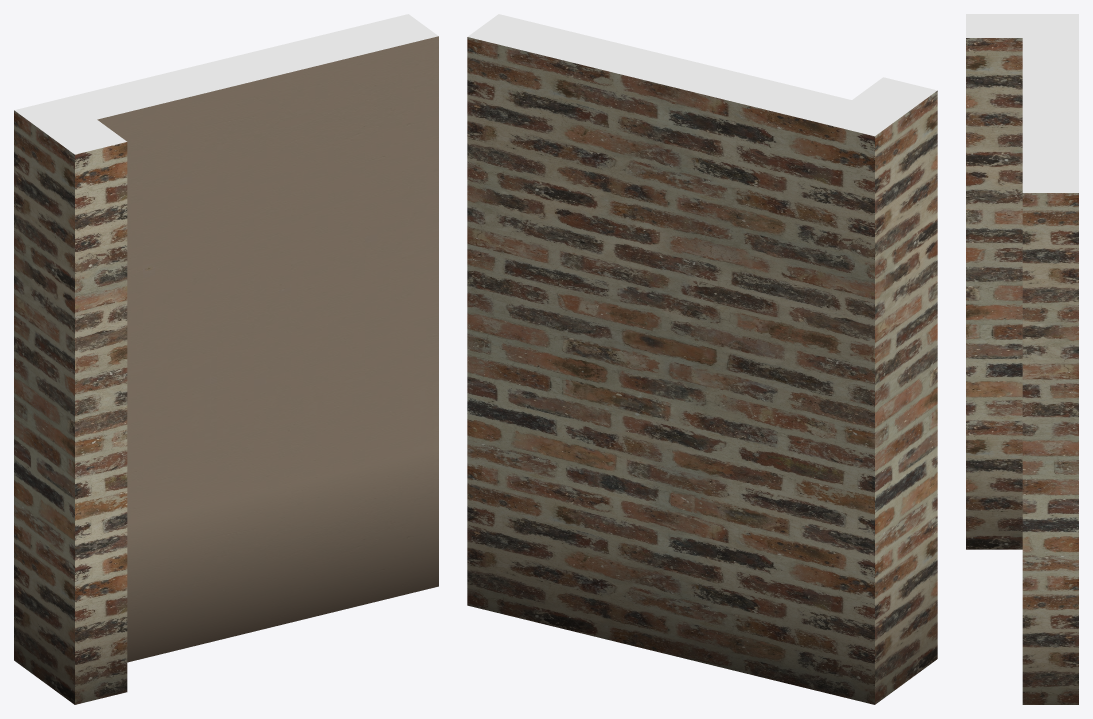
File: wall_end.glb
The picture shows the model from 3 angles, left to right: view 1: azimuth 30°, elevation 25°; view 2: azimuth 150°, elevation 25°; view 3: azimuth 270°, elevation 25°; orthographic projection. The views are drawn at different scales.
Parts seen in each view (by area): view 1: wall_end-col; view 2: wall_end-col; view 3: wall_end-col.
Boxes of the visible parts, x1,y1,x2,y2 form: wall_end-col: [14, 14, 438, 704]; wall_end-col: [467, 14, 937, 704]; wall_end-col: [966, 14, 1078, 704].
Bounding box in the file's own units: 1.5 × 2 × 0.4.
Materials: 3 (2 with a texture image).
